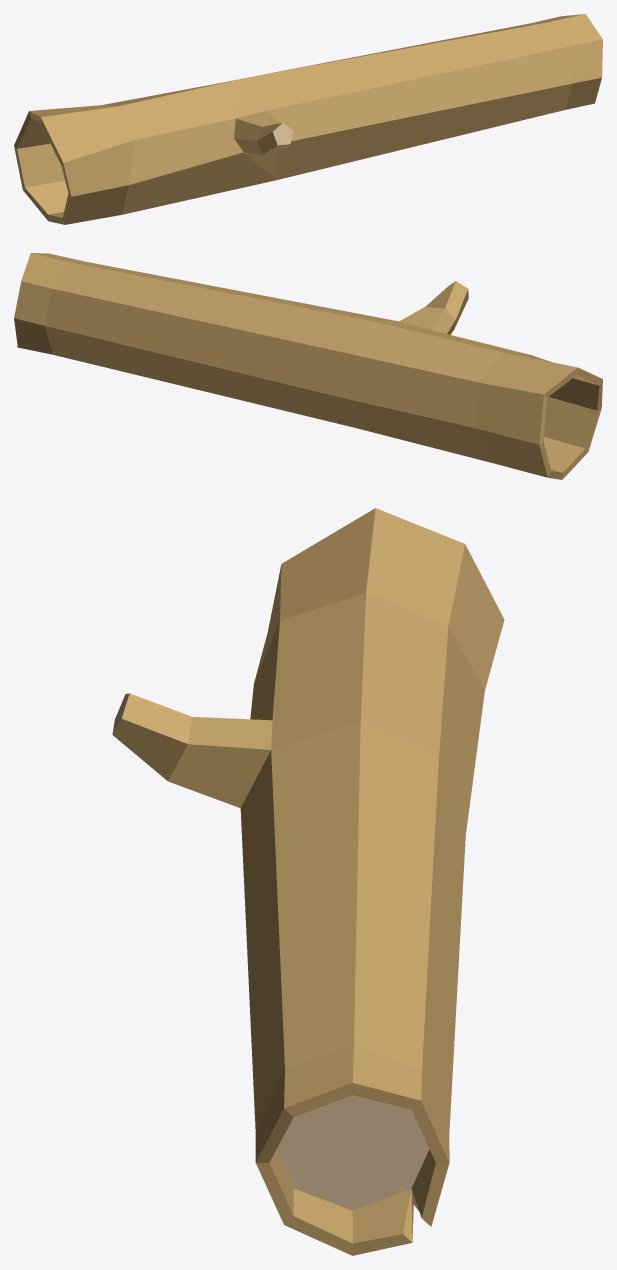
Rendered from Simple_Log_08_LOD.fbx.
3 views of the same model, one above another, from view 1: azimuth 30°, elevation 25°; view 2: azimuth 150°, elevation 25°; view 3: azimuth 270°, elevation 25° (orthographic). The views are drawn at different scales.
Visible parts, largest first — view 1: Simple_Log_08_LOD0; view 2: Simple_Log_08_LOD0; view 3: Simple_Log_08_LOD0.
Boxes of the visible parts, box(x1,y1,x2,y2) form: Simple_Log_08_LOD0: box(14, 14, 602, 224); Simple_Log_08_LOD0: box(14, 253, 602, 479); Simple_Log_08_LOD0: box(112, 508, 504, 1255).
Size of what is drawn, in the model's own units: 210 by 41.56 by 65.89.
